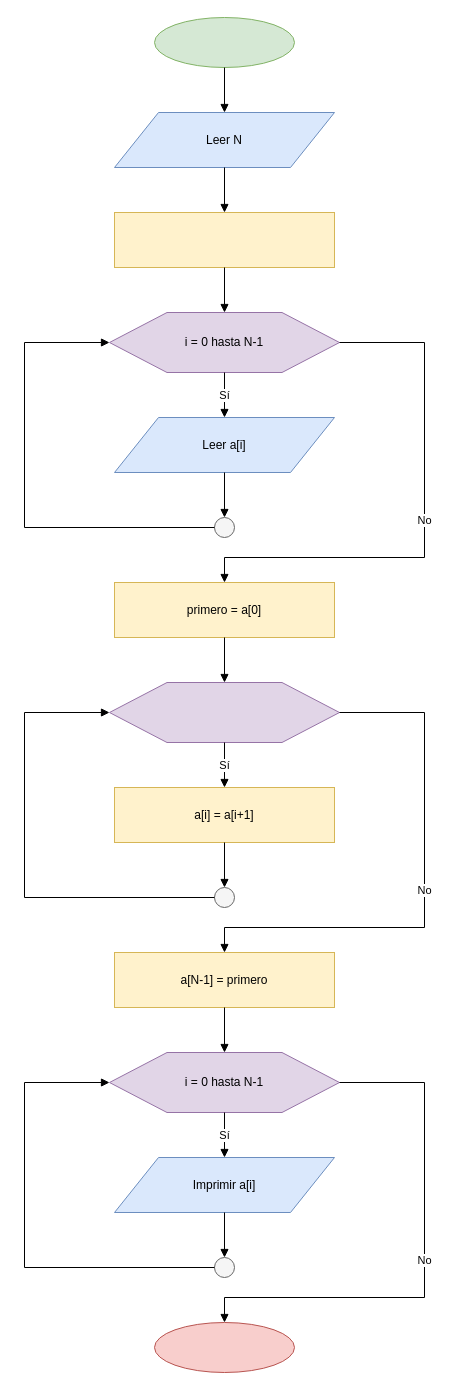
The diagram is 450 pixels wide and 1390 high, and some of its shapes have lost their labels. The shapes that lost their labels are listed below. From the top down, each one's centre as x and y in pixels, then its label:
At pixel 224 42: "Inicio".
At pixel 224 240: "Declarar a[N]".
At pixel 224 712: "i = 0 hasta N-2".
At pixel 224 1347: "Fin".
